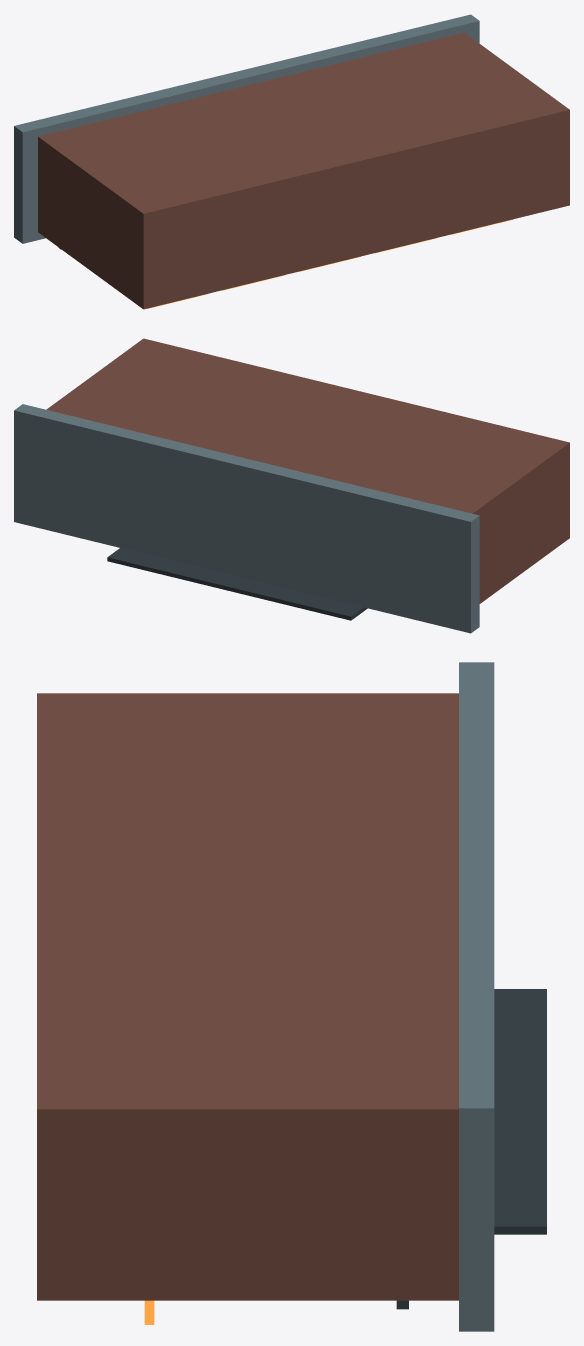
Rendered from rainline_market_block_v1.glb.
3 views of the same model, one above another, from view 1: azimuth 30°, elevation 25°; view 2: azimuth 150°, elevation 25°; view 3: azimuth 270°, elevation 25° (orthographic). The views are drawn at different scales.
Parts seen in each view (by area): view 1: MarketHall, MarketRoof; view 2: MarketRoof, MarketHall, MarketSignFrame; view 3: MarketHall, MarketRoof, MarketSignFrame.
Boxes of the visible parts, x1,y1,x2,y2 form: MarketHall: (38,32,569,309); MarketRoof: (14,14,479,243); MarketRoof: (14,404,479,633); MarketHall: (46,338,569,603); MarketSignFrame: (107,547,367,620); MarketHall: (37,693,458,1300); MarketRoof: (459,662,494,1331); MarketSignFrame: (494,989,546,1234).
Size of the model in its own units: 30 by 8.18 by 14.5.
